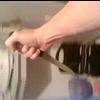melee: (5, 24, 84, 76)
